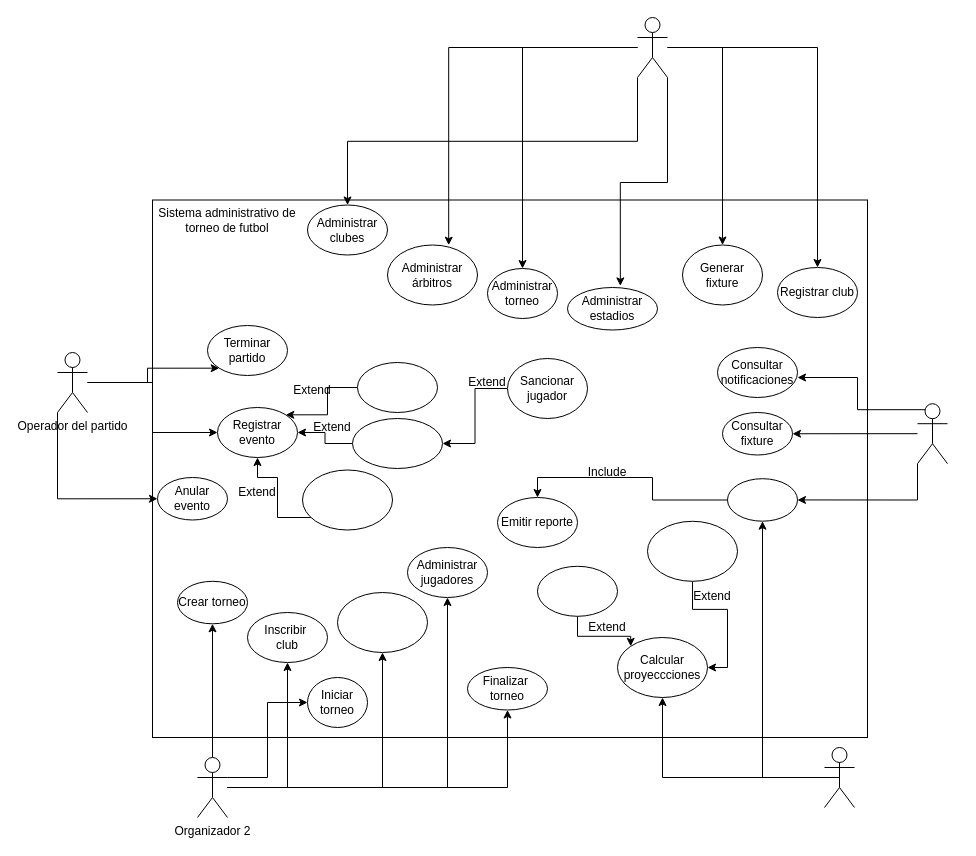
Some shapes in this 976 by 856 pixel diagram are drawn without their labels. Here are the shapes that lost their labels. From the top down, the centre of each, then its label:
[652,47]: Organizador
[397,387]: Registrar goles
[397,443]: Registrar tarjetas
[932,433]: Suscriptor
[347,499]: Registrar cambios
[762,499]: Consultar tabla
[692,550]: Calcular por rendimiento
[577,590]: Calcular por historial
[382,622]: Administrar entrenador
[839,777]: Analista estadístico
